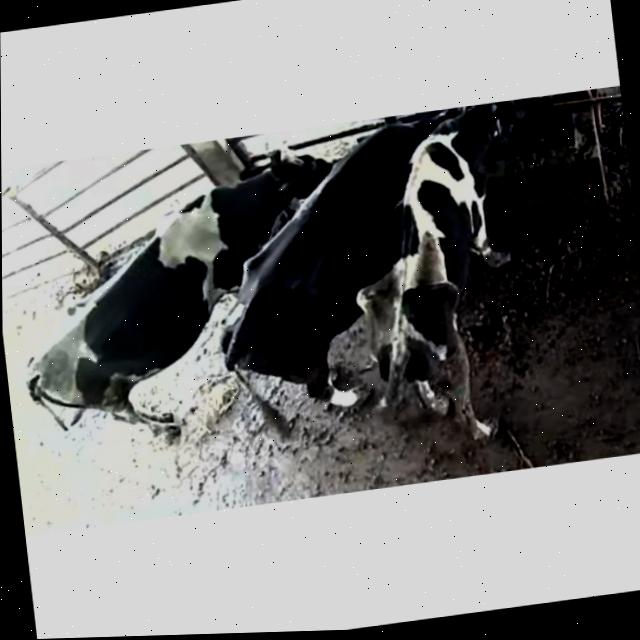drink: (420, 96, 551, 196), (352, 107, 467, 187)
